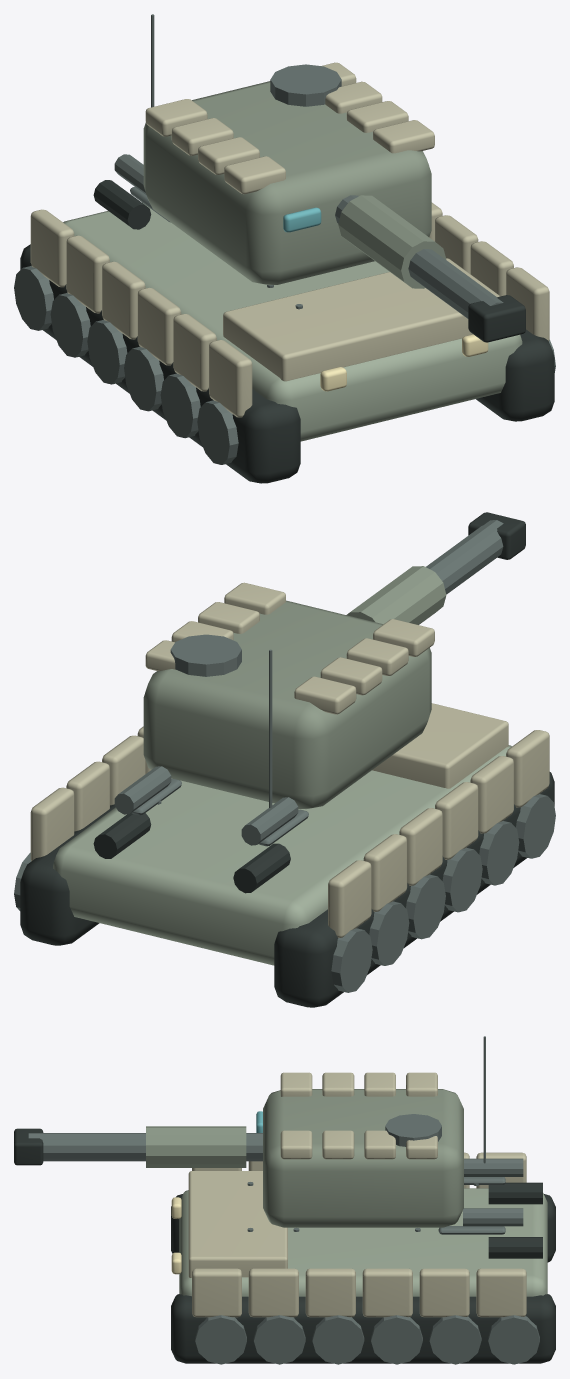
Rendered from heavy.glb.
The picture shows the model from 3 angles, top to bottom: view 1: azimuth 30°, elevation 25°; view 2: azimuth 150°, elevation 25°; view 3: azimuth 270°, elevation 25°; orthographic projection. The views are drawn at different scales.
Parts seen in each view (by area): view 1: Chassis, TurretArmor; view 2: Chassis, TurretArmor; view 3: Chassis, TurretArmor.
Boxes of the visible parts, left/top/right/bottom form: Chassis: left=14, top=14, right=555, bottom=483; TurretArmor: left=143, top=62, right=525, bottom=342; Chassis: left=14, top=649, right=555, bottom=1007; TurretArmor: left=143, top=512, right=525, bottom=809; Chassis: left=171, top=1036, right=555, bottom=1364; TurretArmor: left=14, top=1072, right=463, bottom=1227.
Size of the model in its own units: 3.6 by 3.29 by 6.48.
